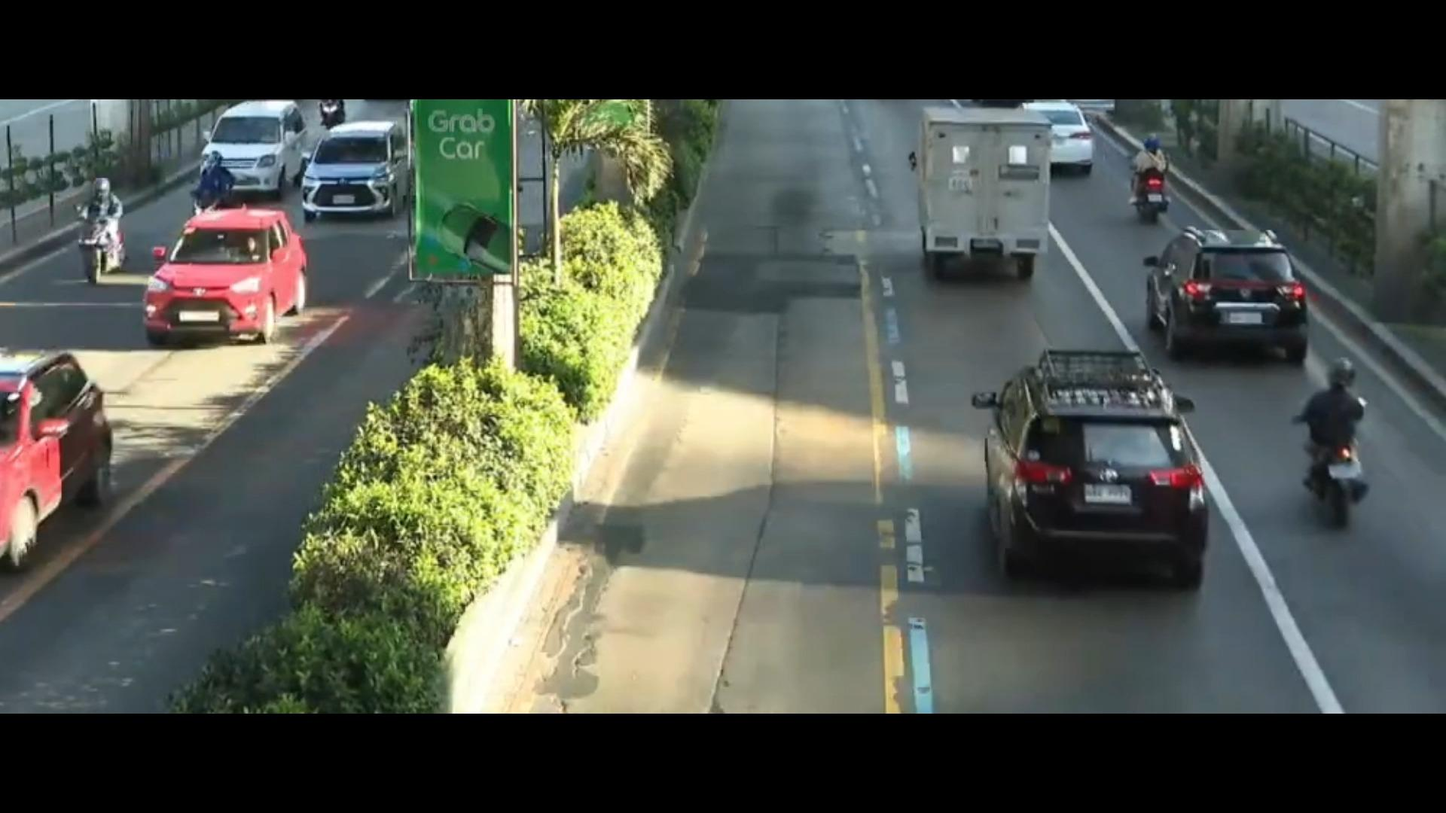Motorcycle: (1234, 344, 1391, 549), (67, 171, 151, 308), (1096, 121, 1185, 236), (183, 139, 236, 220)
SUV: (939, 332, 1226, 605), (126, 191, 328, 360), (1136, 211, 1313, 372), (290, 119, 425, 226), (214, 96, 309, 193)
Truck: (887, 108, 1077, 290)
